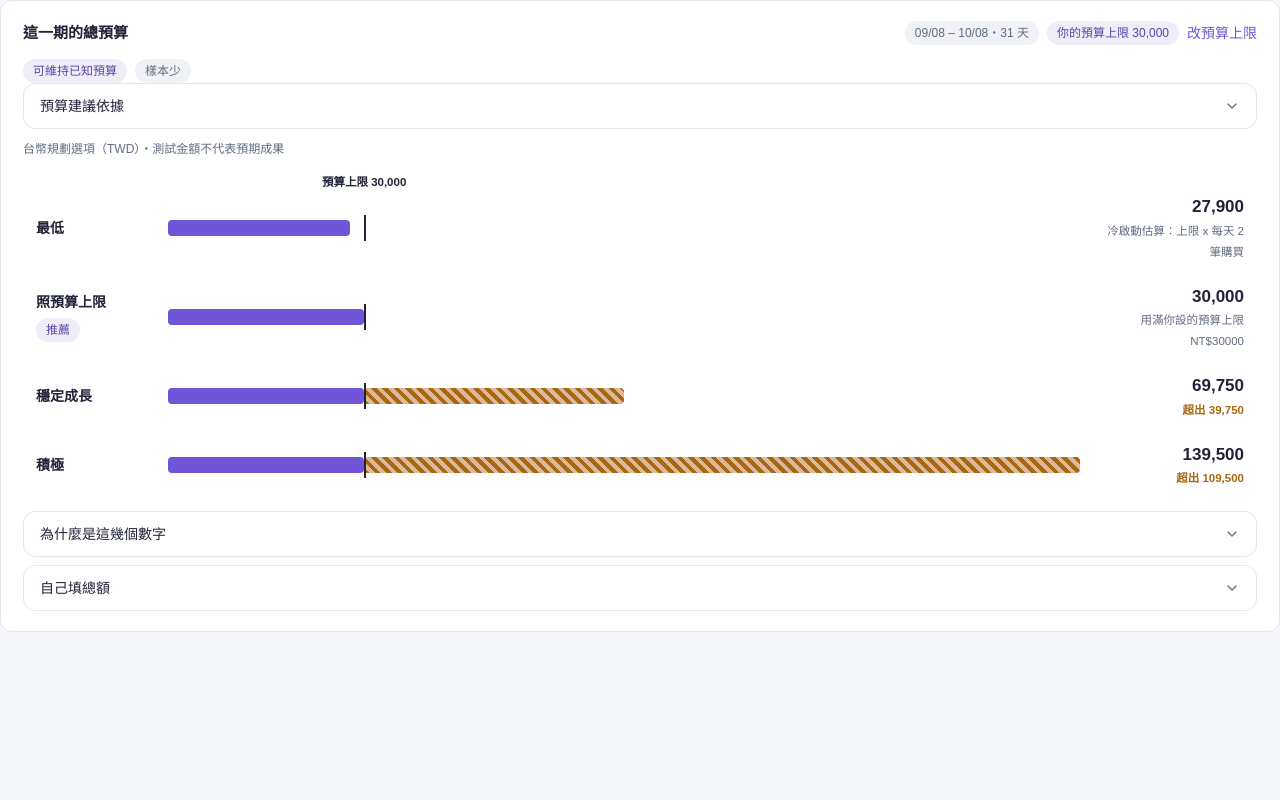
Test: BudgetScenarios › prints served retain without reclassifying a nullable recommendation
This screenshot has width=1280, height=800.
Check: the text "可維持已知預算" is shown, box [23,59,127,83]
What coordinates should you click on to do the following:
click the button "預算建議依據"
I would click on:
 (82, 106)
Its box is [24,84,1256,128].
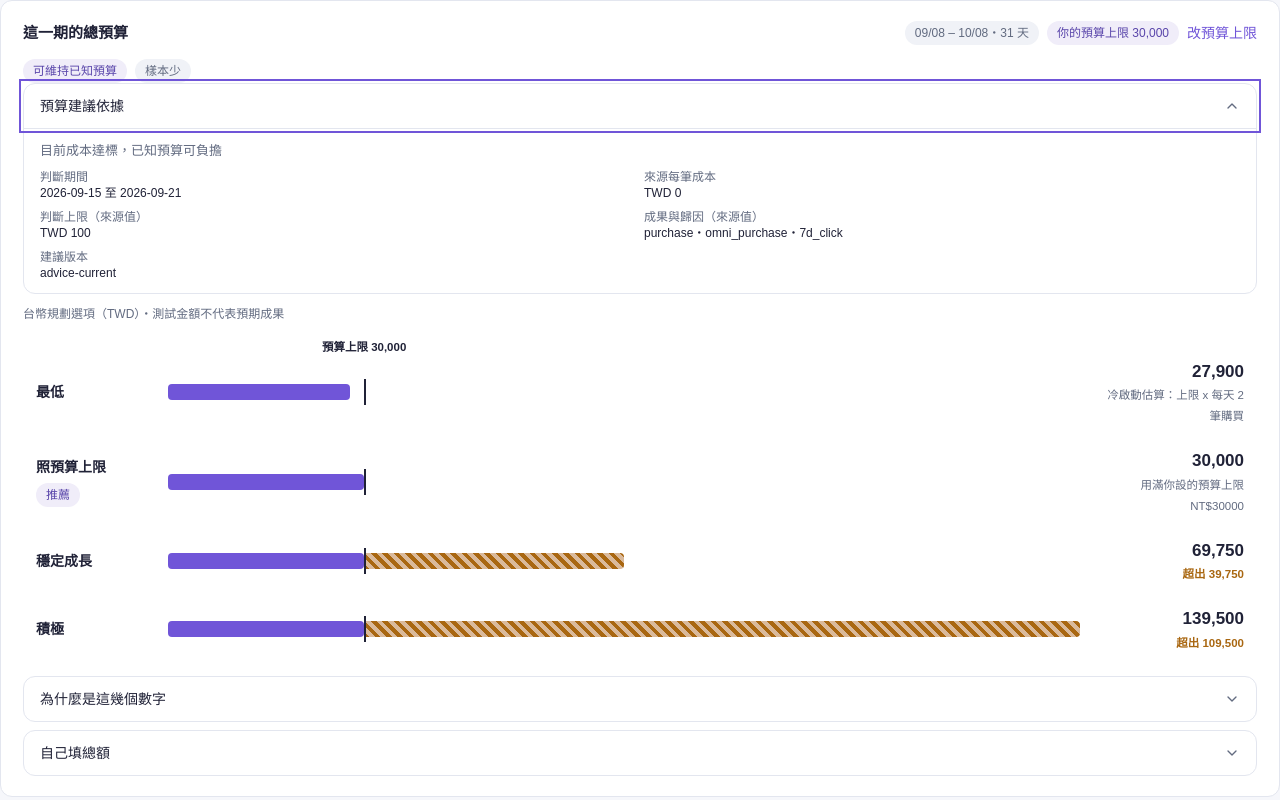
Check: the list item "目前成本達標，已知預算可負擔" is shown, box [40,143,222,158]
Check: the text "TWD 0" is shown, box [644,186,681,200]
Check: the text "advice-current" is shown, box [40,266,116,280]
